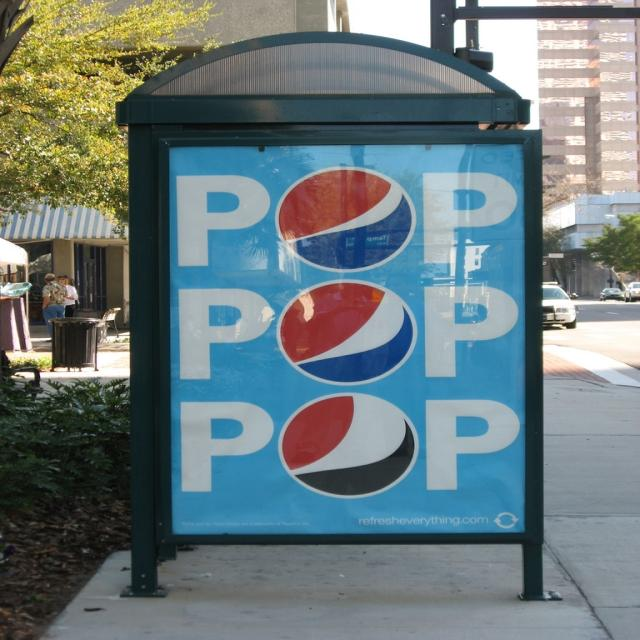pepsi: (275, 167, 420, 273), (276, 394, 420, 499), (278, 283, 414, 385)
